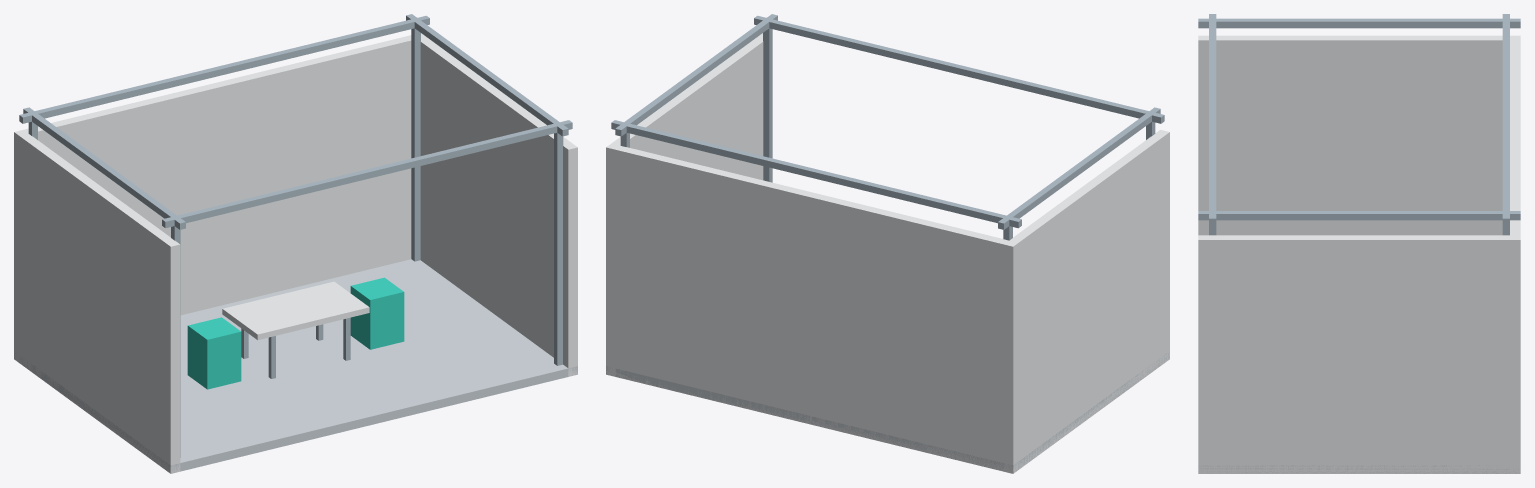
3 renders of one model, left to right at view 1: azimuth 30°, elevation 25°; view 2: azimuth 150°, elevation 25°; view 3: azimuth 270°, elevation 25°, orthographic. The views are drawn at different scales.
Visible parts, largest first — view 1: Exhibition Booth Concept; view 2: Exhibition Booth Concept; view 3: Exhibition Booth Concept.
Boxes of the visible parts, bbox=[...] form: Exhibition Booth Concept: bbox=[14, 14, 577, 473]; Exhibition Booth Concept: bbox=[606, 14, 1169, 473]; Exhibition Booth Concept: bbox=[1198, 14, 1520, 473].
Bounding box in the file's own units: 6 × 3.49 × 4.
